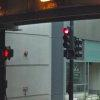Traffic light: (56, 20, 91, 72)
